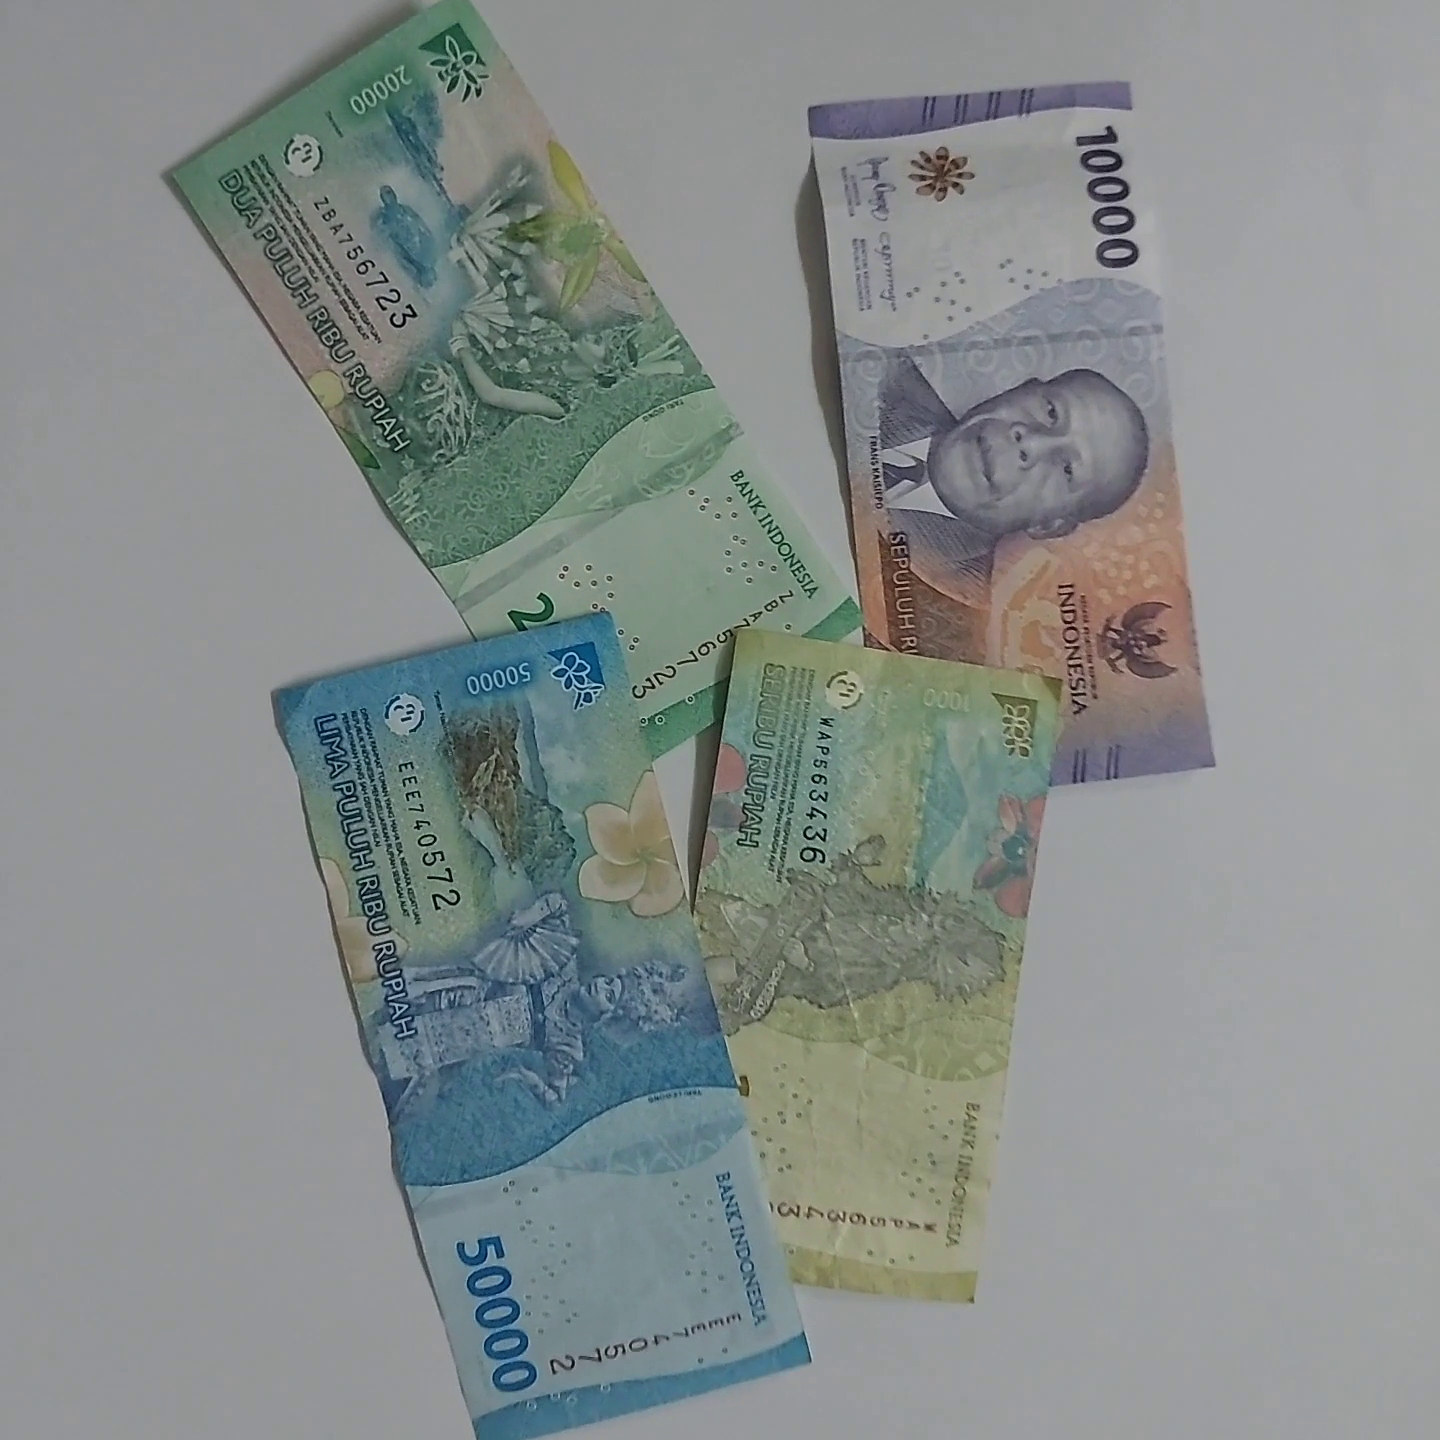10k: (794, 22, 1296, 800)
1k: (752, 615, 1067, 1287)
20k: (90, 13, 877, 773)
50k: (219, 626, 818, 1440)
